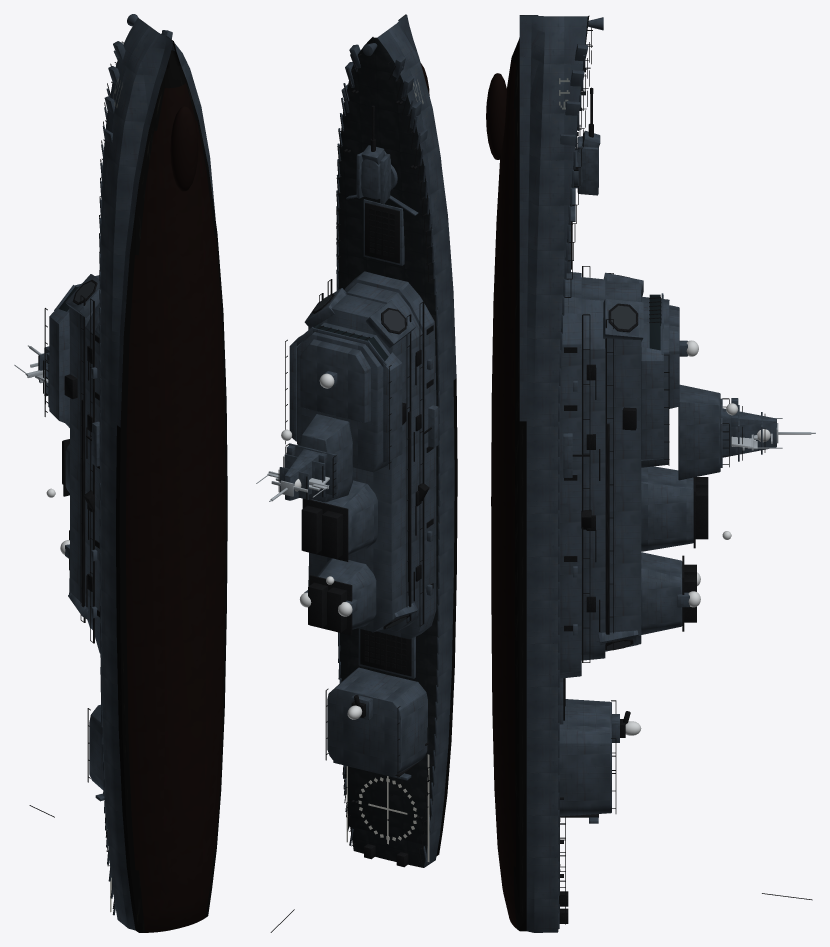
Rendered from player_ship.glb.
3 renders of one model, left to right at view 1: azimuth 30°, elevation 25°; view 2: azimuth 150°, elevation 25°; view 3: azimuth 270°, elevation 25°, orthographic. The views are drawn at different scales.
Parts seen in each view (by area): view 1: Hull, SS_SuperHazeGrey, SS_DarkMetal, SS_HullHazeGrey, SS_KeelBlack; view 2: SS_SuperHazeGrey, Hull, SS_DarkMetal, SS_DeckNonskid, SS_HullHazeGrey, SS_VLSCell, SS_HelipadMarking, SS_RadomeWhite, SS_ArrayFaceGrey, SS_SPYFace; view 3: Hull, SS_SuperHazeGrey, SS_DarkMetal, SS_HullHazeGrey, SS_KeelBlack, SS_RadomeWhite.
Part boxes in pixels (x1=…): Hull: x1=100, y1=18, x2=227, y2=932; SS_SuperHazeGrey: x1=39, y1=274, x2=104, y2=801; SS_DarkMetal: x1=29, y1=41, x2=123, y2=908; SS_HullHazeGrey: x1=99, y1=14, x2=172, y2=915; SS_KeelBlack: x1=170, y1=106, x2=198, y2=191; SS_SuperHazeGrey: x1=279, y1=145, x2=438, y2=780; Hull: x1=338, y1=14, x2=457, y2=867; SS_DarkMetal: x1=270, y1=54, x2=433, y2=932; SS_DeckNonskid: x1=348, y1=727, x2=428, y2=845; SS_HullHazeGrey: x1=336, y1=43, x2=440, y2=864; SS_VLSCell: x1=364, y1=208, x2=406, y2=671; SS_HelipadMarking: x1=346, y1=754, x2=429, y2=861; SS_RadomeWhite: x1=281, y1=373, x2=362, y2=719; SS_ArrayFaceGrey: x1=256, y1=471, x2=329, y2=501; SS_SPYFace: x1=313, y1=295, x2=406, y2=628; Hull: x1=491, y1=15, x2=589, y2=932; SS_SuperHazeGrey: x1=559, y1=130, x2=776, y2=823; SS_DarkMetal: x1=559, y1=27, x2=812, y2=924; SS_HullHazeGrey: x1=558, y1=17, x2=603, y2=928; SS_KeelBlack: x1=486, y1=73, x2=506, y2=159; SS_RadomeWhite: x1=625, y1=340, x2=770, y2=735.
Size of the model in its own units: 20.5 by 155 by 51.56.
13 materials, 8 textured.
